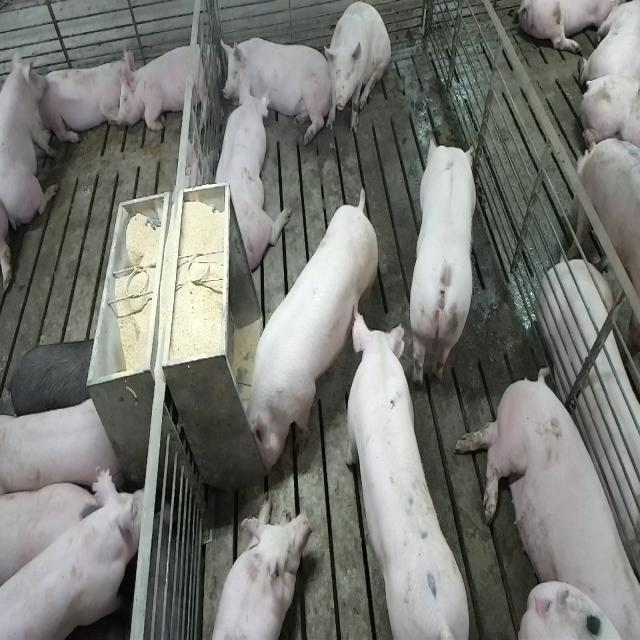Lateral_lying: (454, 362, 636, 636), (538, 260, 640, 575)
Sitting: (324, 3, 391, 139)
Standing: (342, 306, 472, 636), (239, 188, 378, 475), (2, 464, 142, 640), (410, 140, 482, 393), (568, 137, 640, 387), (2, 396, 126, 514), (3, 332, 101, 418)
Sternal_lying: (210, 85, 284, 274), (205, 502, 306, 640), (221, 28, 327, 136), (2, 46, 56, 230), (119, 38, 215, 136), (36, 51, 130, 148)
